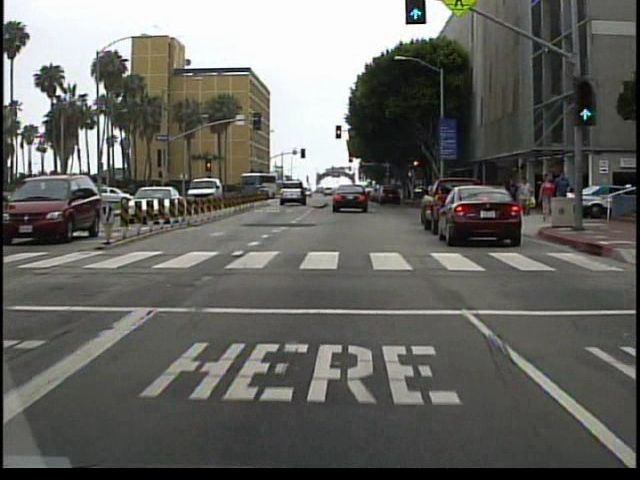person: (554, 169, 572, 223), (540, 175, 558, 223), (520, 175, 535, 219)
